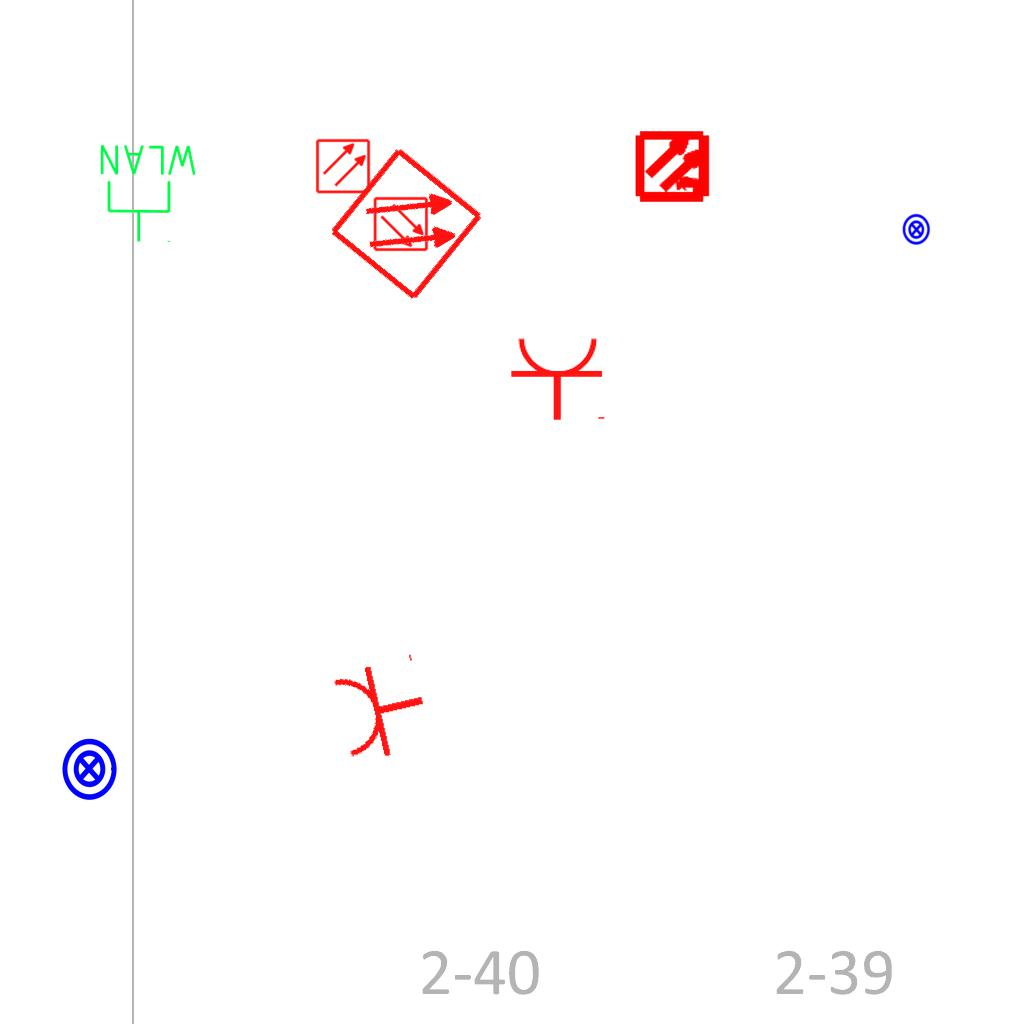OT_Multisensormelder_(Kombination_RMO_WMD): (618, 110, 731, 223)
RMO_Rauchmelder_optischer: (327, 144, 486, 303), (315, 138, 371, 194), (373, 196, 429, 252)
Schukosteckdose_einfach: (327, 649, 436, 767), (509, 335, 609, 422)
Taster_beleuchtet: (56, 736, 122, 802), (900, 213, 933, 246)
WLAN: (96, 141, 201, 245)
